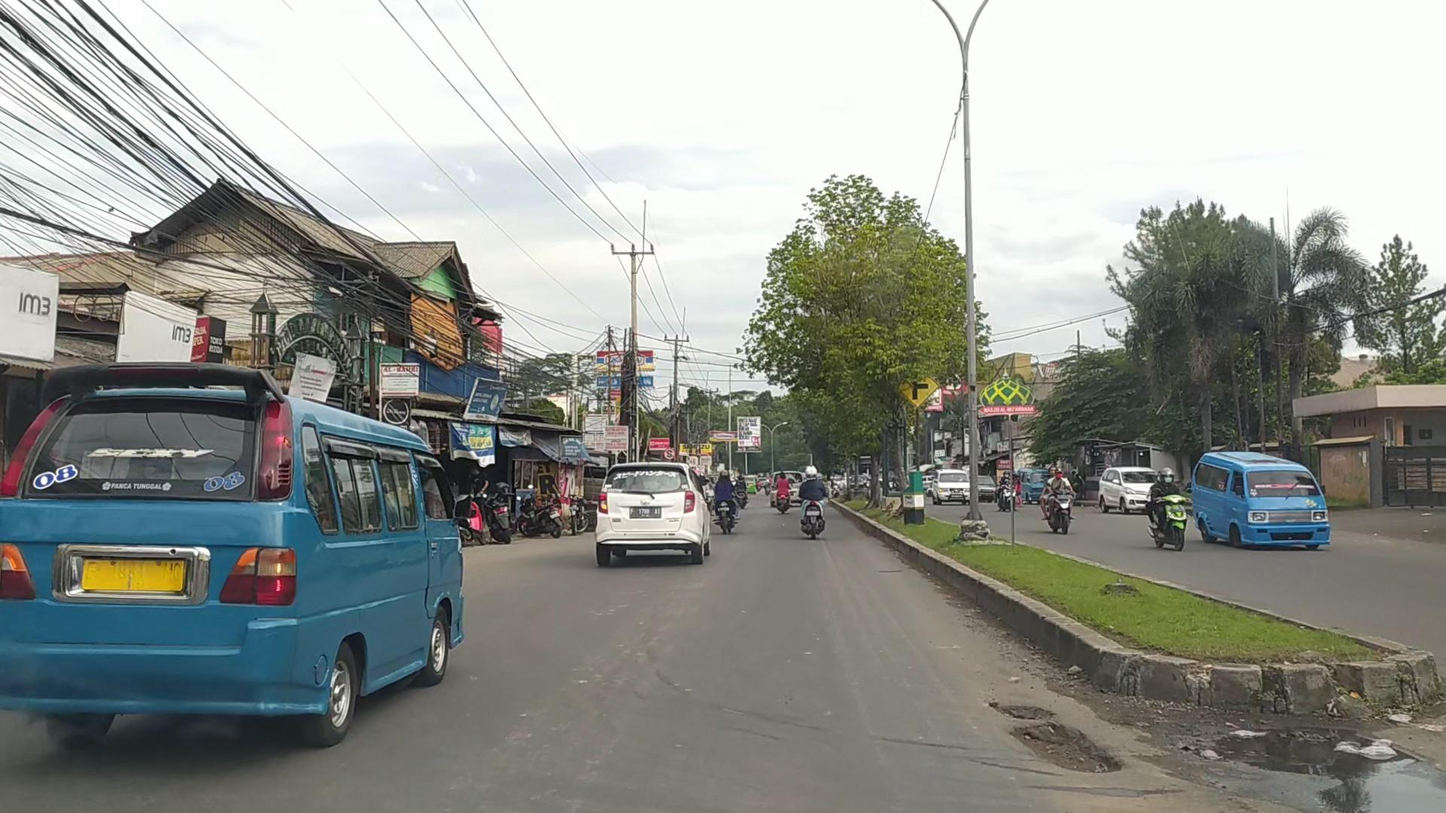pothole: (987, 703, 1125, 774)
